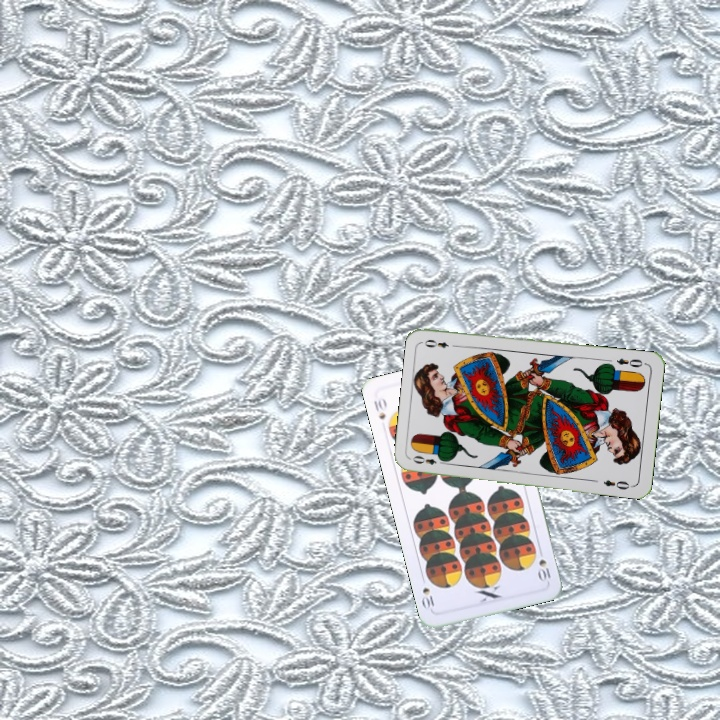EO: (408, 452, 448, 467), (612, 354, 645, 370)
S10: (535, 555, 553, 585), (370, 394, 389, 422)
